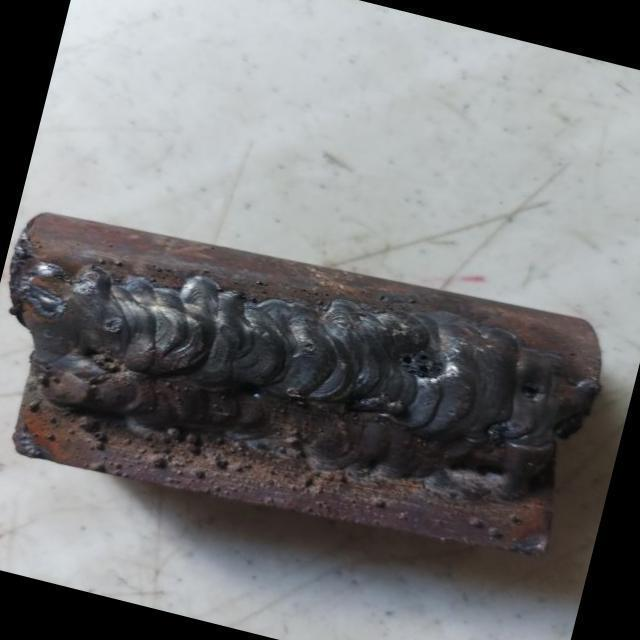defect: (393, 342, 452, 383), (82, 347, 124, 373), (479, 420, 514, 446), (511, 379, 545, 403), (101, 315, 124, 336), (301, 340, 321, 359)
